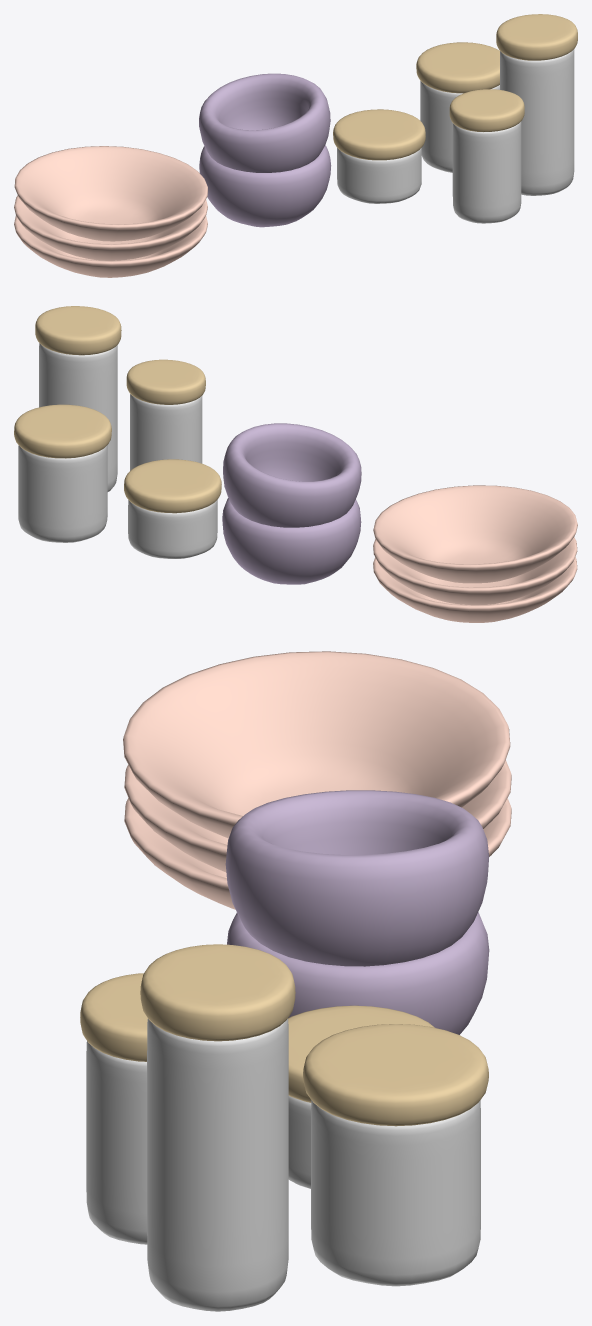
File: BSC_Kitchen_clutter_low_poly_asset.fbx
3 renders of one model, top to bottom at view 1: azimuth 30°, elevation 25°; view 2: azimuth 150°, elevation 25°; view 3: azimuth 270°, elevation 25°, orthographic. The views are drawn at different scales.
Visible parts, largest first — view 1: BSC_plate_3, BSC_kitchen_container_2, BSC_bowl_2, BSC_kitchen_container_3, BSC_kitchen_container_4, BSC_bowl_1, BSC_kitchen_container_1, BSC_plate_2, BSC_plate_1; view 2: BSC_plate_3, BSC_bowl_2, BSC_kitchen_container_1, BSC_kitchen_container_2, BSC_kitchen_container_4, BSC_kitchen_container_3, BSC_bowl_1, BSC_plate_2, BSC_plate_1; view 3: BSC_kitchen_container_2, BSC_plate_3, BSC_kitchen_container_1, BSC_bowl_2, BSC_kitchen_container_3, BSC_bowl_1, BSC_kitchen_container_4, BSC_plate_2, BSC_plate_1.
Boxes of the visible parts, x1,y1,x2,y2 form: BSC_plate_3: [14, 146, 207, 241]; BSC_kitchen_container_2: [496, 14, 577, 195]; BSC_bowl_2: [199, 73, 330, 172]; BSC_kitchen_container_3: [449, 89, 524, 223]; BSC_kitchen_container_4: [333, 109, 425, 203]; BSC_bowl_1: [199, 145, 331, 227]; BSC_kitchen_container_1: [416, 42, 499, 172]; BSC_plate_2: [14, 195, 207, 260]; BSC_plate_1: [14, 216, 207, 277]; BSC_plate_3: [373, 485, 577, 583]; BSC_bowl_2: [223, 423, 361, 527]; BSC_kitchen_container_1: [14, 404, 111, 542]; BSC_kitchen_container_2: [35, 306, 121, 491]; BSC_kitchen_container_4: [124, 459, 221, 558]; BSC_kitchen_container_3: [126, 359, 205, 470]; BSC_bowl_1: [222, 498, 361, 584]; BSC_plate_2: [373, 537, 577, 605]; BSC_plate_1: [373, 557, 577, 622]; BSC_kitchen_container_2: [140, 944, 295, 1311]; BSC_plate_3: [123, 651, 510, 838]; BSC_kitchen_container_1: [303, 1024, 488, 1286]; BSC_bowl_2: [225, 790, 489, 966]; BSC_kitchen_container_3: [80, 973, 147, 1244]; BSC_bowl_1: [227, 912, 489, 1034]; BSC_kitchen_container_4: [288, 1005, 434, 1188]; BSC_plate_2: [124, 760, 511, 872]; BSC_plate_1: [124, 798, 511, 909].
Bounding box in the file's own units: 121 × 34.55 × 43.24.
